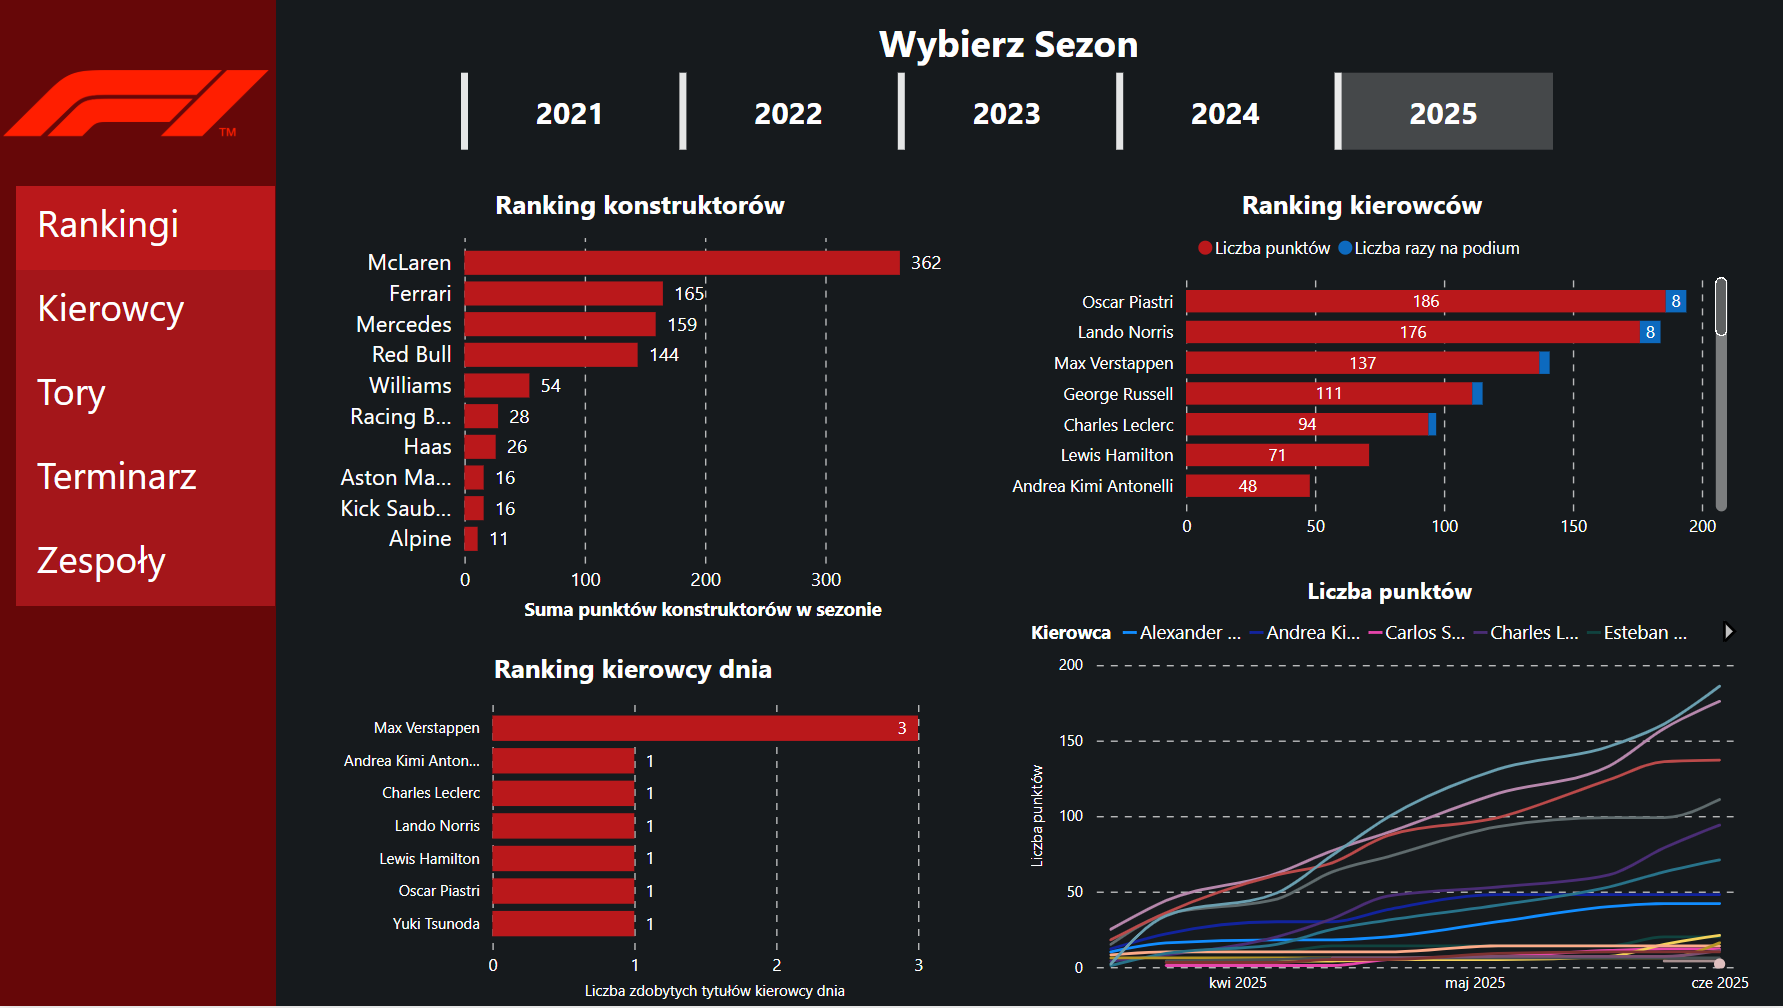

The page's visual inventory and layout, read from the dashboard file:
{"tool":"powerbi","page":{"name":"Rankingi","canvas":[1280,720],"ordinal":0},"visuals":[{"type":"barChart","title":"Ranking konstruktorów","fields":{"Category":["DWH dim_constructor.constructor_name"],"Y":["Sum(DWH fact_race_data.race_data_race_points)"]},"box":[228.6,134.3,462.9,315.7],"z":0},{"type":"barChart","title":"Ranking kierowców","fields":{"Y":["Sum(DWH fact_race_data.race_data_race_points)","Sum(DWH fact_race_data.Is_podium)"],"Category":["DWH dim_driver.driver_name"]},"box":[710,134.3,531.4,261.4],"z":1000},{"type":"shape","box":[0,0,200,720],"z":2000},{"type":"pageNavigator","box":[14.3,134.3,185.7,300],"z":3000},{"type":"image","box":[0,0,200,150],"z":4000},{"type":"advancedSlicerVisual","title":"Wybierz Sezon","fields":{"Values":["DWH dim_race.race_year"]},"box":[327.1,12.9,792.9,101.4],"z":5000},{"type":"lineChart","title":"Liczba punktów ","fields":{"Series":["DWH dim_driver.driver_name"],"Y":["DWH fact_race_data.Cumulative Points"],"Category":["DWH dim_race.race_date"]},"box":[734.3,411.4,522.9,308.6],"z":6000},{"type":"barChart","title":"Ranking kierowcy dnia","fields":{"Category":["DWH dim_driver.driver_name"],"Y":["DWH fact_race_data.LiczbaKierowcaDnia"]},"box":[228.6,465.7,452.9,254.3],"z":7000}]}

Visuals, with their boxes on the page's 1280x720 design canvas (x1, y1, x2, y2). These are canvas units, not pixel positions in the 1783x1008 screenshot, which may show the page scaled, cropped or inside an application window:
"Ranking konstruktorów" barChart: {"x1": 229, "y1": 134, "x2": 692, "y2": 450}
"Ranking kierowców" barChart: {"x1": 710, "y1": 134, "x2": 1241, "y2": 396}
shape: {"x1": 0, "y1": 0, "x2": 200, "y2": 720}
pageNavigator: {"x1": 14, "y1": 134, "x2": 200, "y2": 434}
image: {"x1": 0, "y1": 0, "x2": 200, "y2": 150}
"Wybierz Sezon" advancedSlicerVisual: {"x1": 327, "y1": 13, "x2": 1120, "y2": 114}
"Liczba punktów " lineChart: {"x1": 734, "y1": 411, "x2": 1257, "y2": 720}
"Ranking kierowcy dnia" barChart: {"x1": 229, "y1": 466, "x2": 682, "y2": 720}
